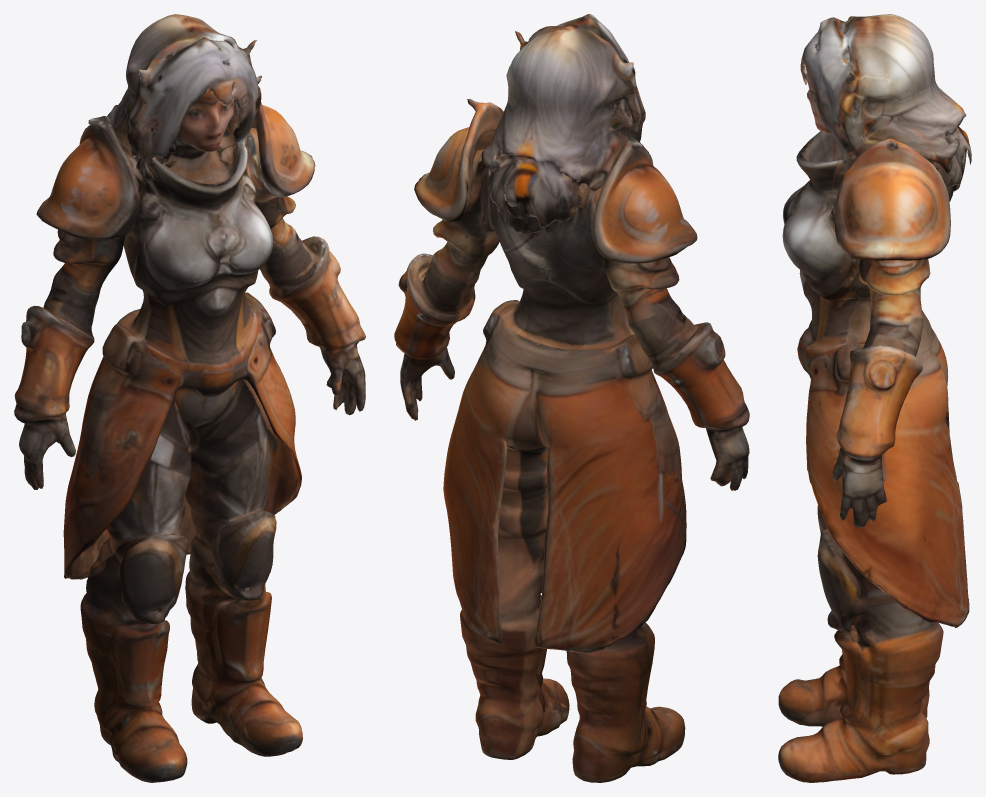
The model's file is dwarf-woman.fbx.
The picture shows the model from 3 angles, left to right: view 1: azimuth 30°, elevation 25°; view 2: azimuth 150°, elevation 25°; view 3: azimuth 270°, elevation 25°; orthographic projection.
Visible parts, largest first — view 1: Mesh_0; view 2: Mesh_0; view 3: Mesh_0.
Boxes of the visible parts, bbox=[...] form: Mesh_0: bbox=[14, 14, 365, 782]; Mesh_0: bbox=[394, 14, 749, 782]; Mesh_0: bbox=[778, 14, 971, 782].
Size of the model in its own units: 101 by 200 by 48.16.
Materials: 1 (1 with a texture image).
